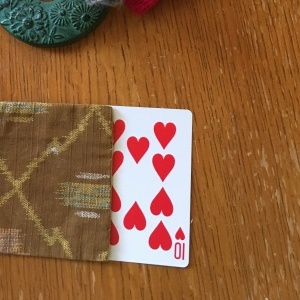card: (105, 105, 194, 269)
